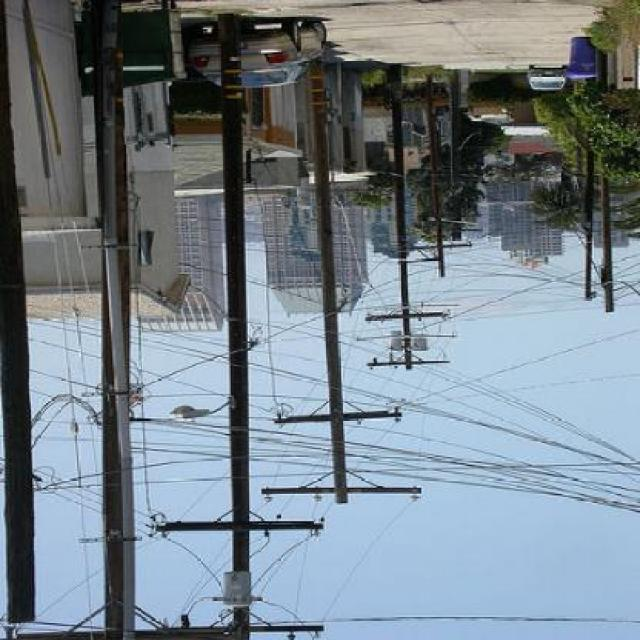pole: (71, 18, 154, 630), (194, 32, 272, 638), (309, 62, 353, 524), (383, 51, 422, 380), (416, 68, 455, 274), (597, 186, 640, 322)
